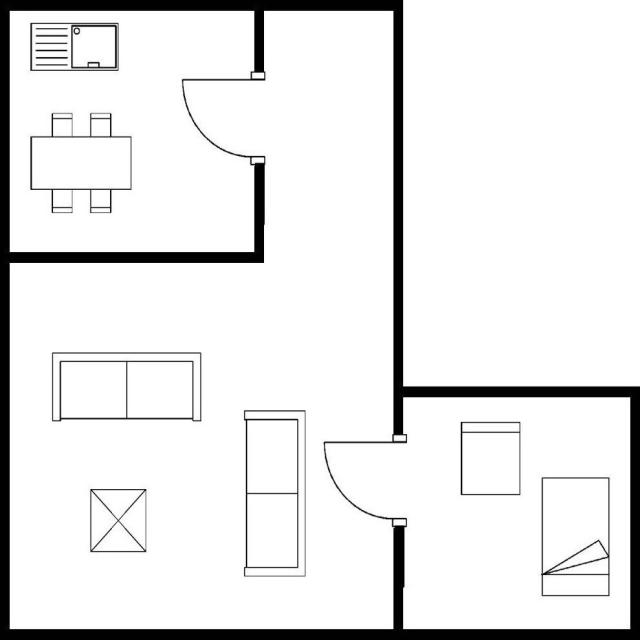bed: (538, 474, 612, 601)
coffee_table: (88, 485, 150, 556)
dining_table: (26, 108, 134, 214)
large_sofa: (49, 348, 204, 427), (240, 407, 307, 580)
sink: (27, 18, 122, 75)
small_sofa: (455, 417, 523, 498)
